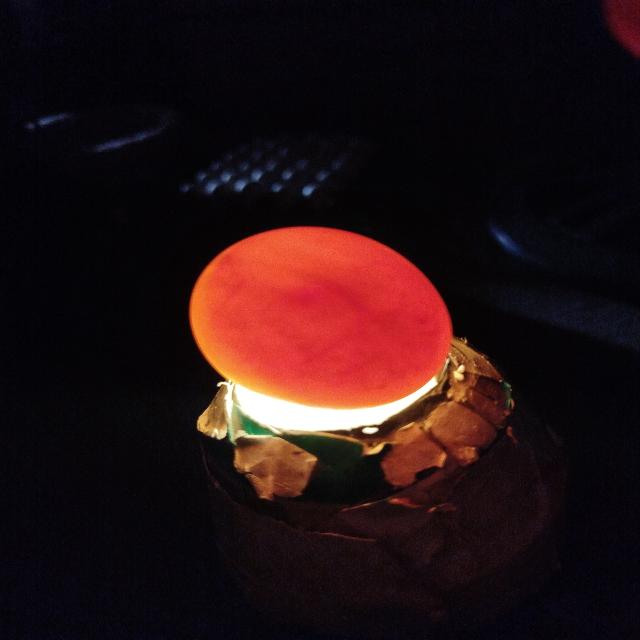Gema Quebrada: (206, 227, 452, 408)
